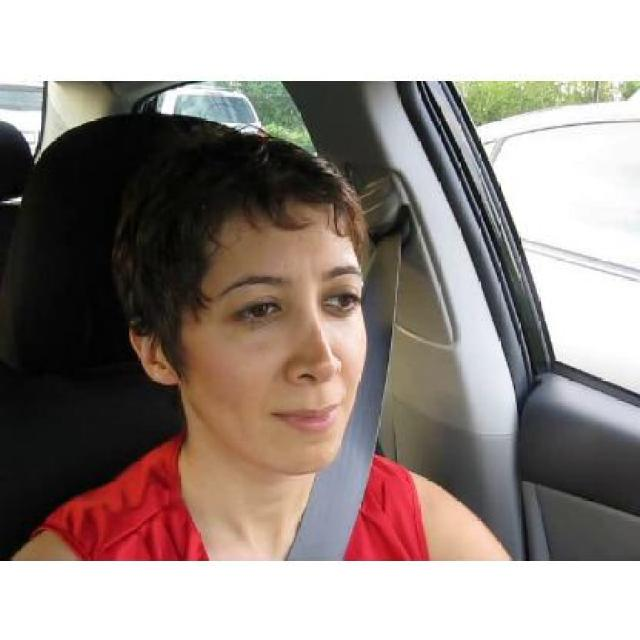attentif: (133, 132, 365, 474)
